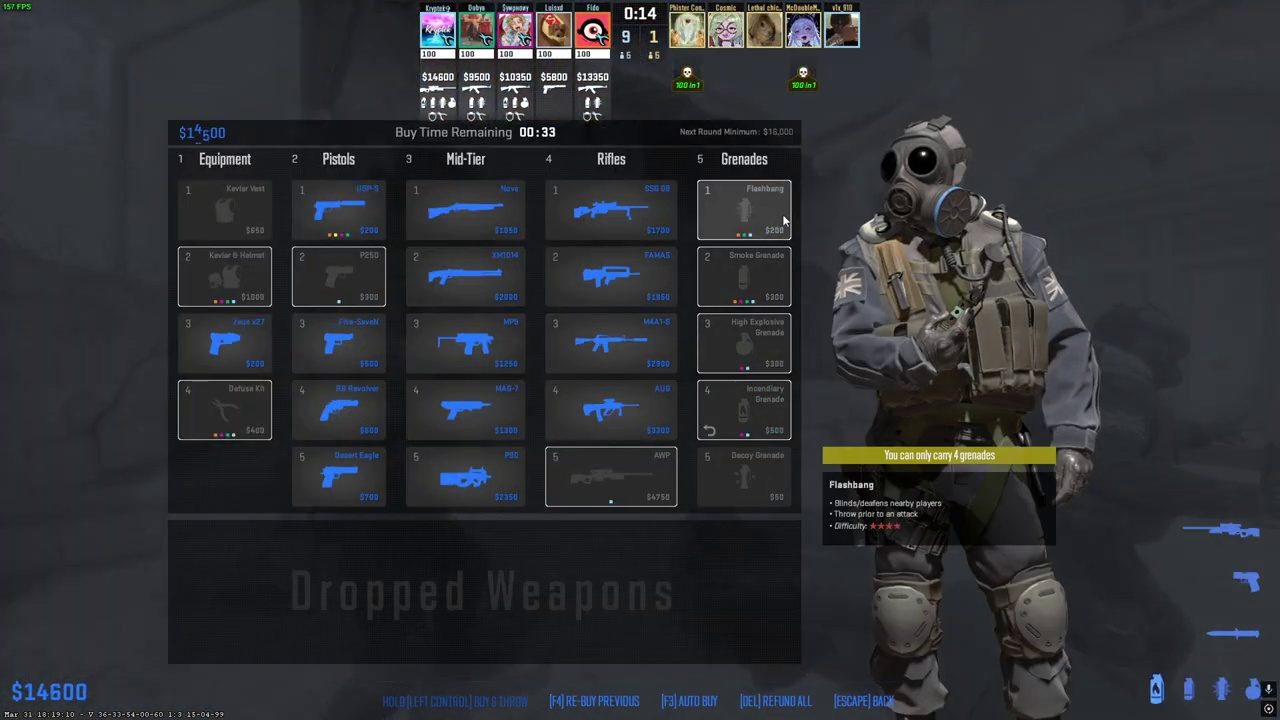CT: (856, 123, 1076, 720)
